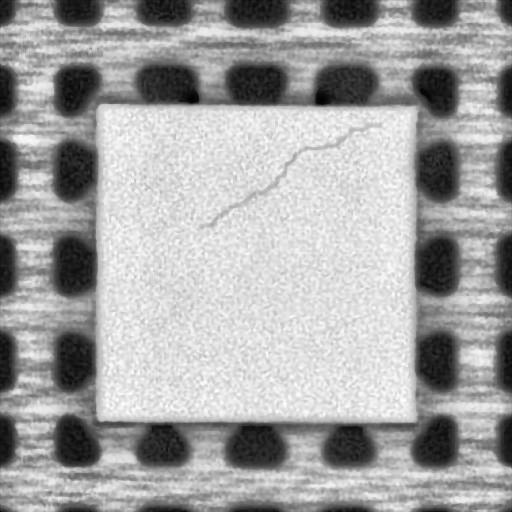DIE_CRACK: (207, 116, 381, 228)
